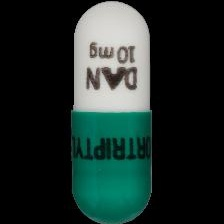63187-322: (0, 0, 224, 224)
